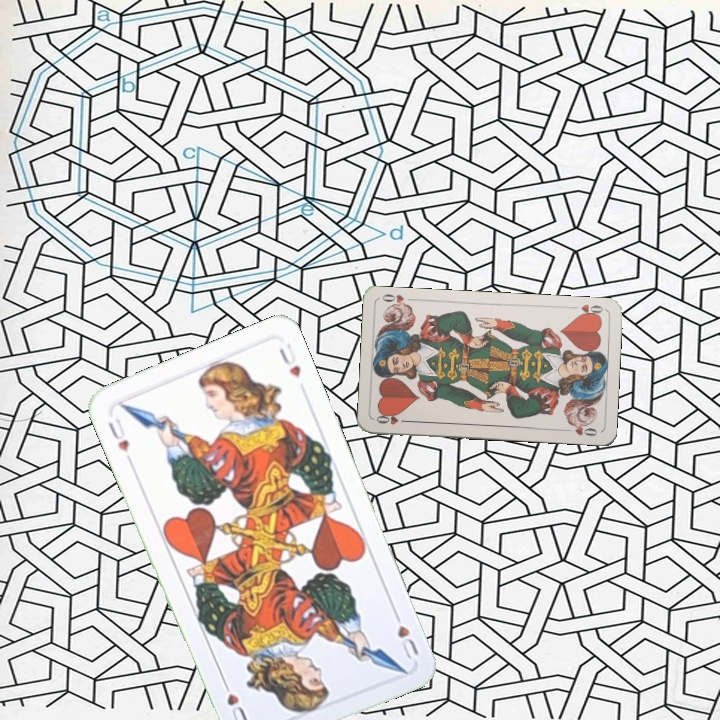HO: (372, 410, 412, 427), (573, 300, 606, 320)
HU: (389, 606, 422, 662), (104, 414, 132, 455)
